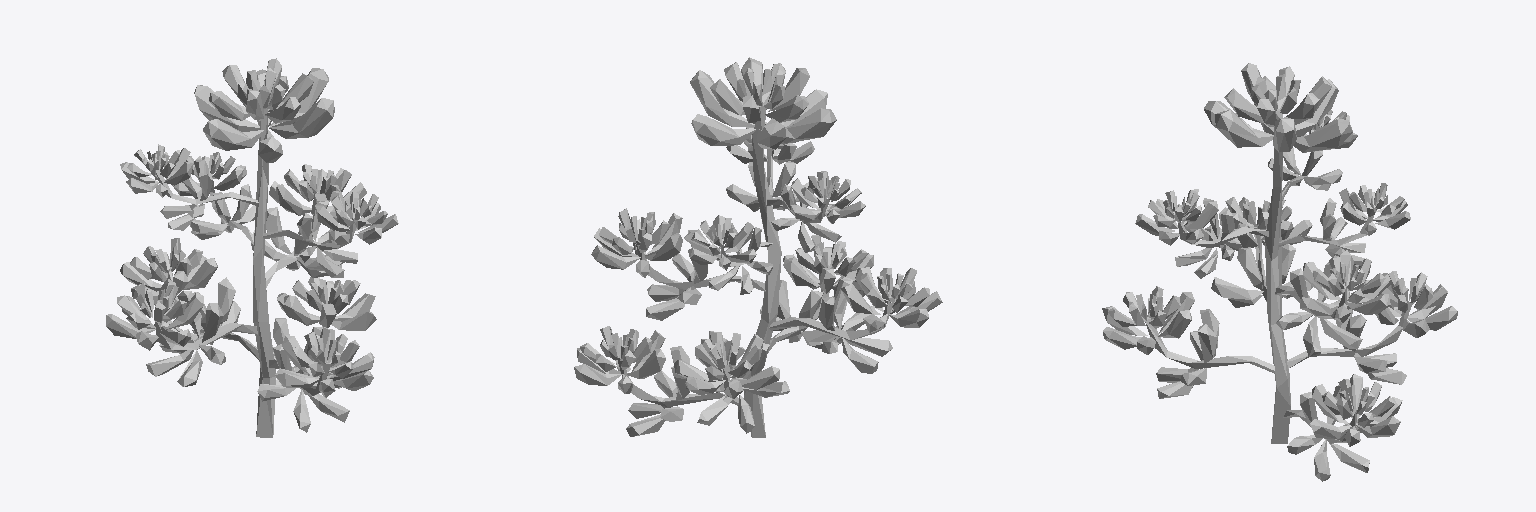
File: RhanPlant1.obj
3 renders of one model, left to right at view 1: azimuth 30°, elevation 25°; view 2: azimuth 150°, elevation 25°; view 3: azimuth 270°, elevation 25°, orthographic.
Visible parts, largest first — view 1: __; view 2: __; view 3: __.
Part boxes in pixels (x1,y1,x2,y2): __: (106,58,398,437); __: (574,57,942,437); __: (1102,63,1457,481).
Bounding box in the file's own units: 4.91 × 5.49 × 4.86.